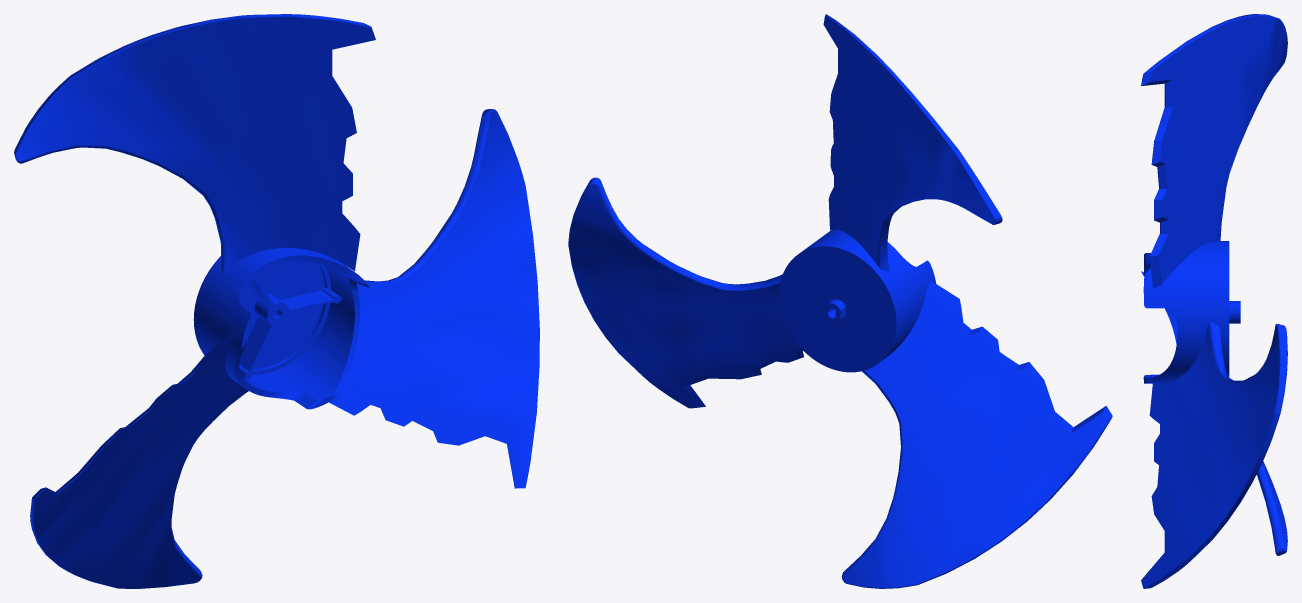
Rendered from Outdoor Unit Fan Tex.fbx.
3 views of the same model, side by side, from view 1: azimuth 30°, elevation 25°; view 2: azimuth 150°, elevation 25°; view 3: azimuth 270°, elevation 25° (orthographic). The views are drawn at different scales.
Visible parts, largest first — view 1: Outdoor Unit Fan Tex; view 2: Outdoor Unit Fan Tex; view 3: Outdoor Unit Fan Tex.
Boxes of the visible parts, <box> form: Outdoor Unit Fan Tex: <box>14,14,539,588</box>; Outdoor Unit Fan Tex: <box>568,14,1112,588</box>; Outdoor Unit Fan Tex: <box>1141,14,1287,588</box>.
Size of the model in its own units: 4099 by 4133 by 1030.
